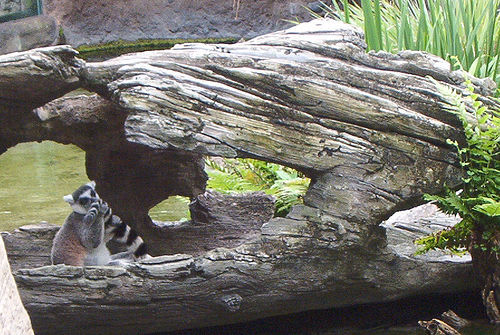cat: (47, 175, 152, 271)
